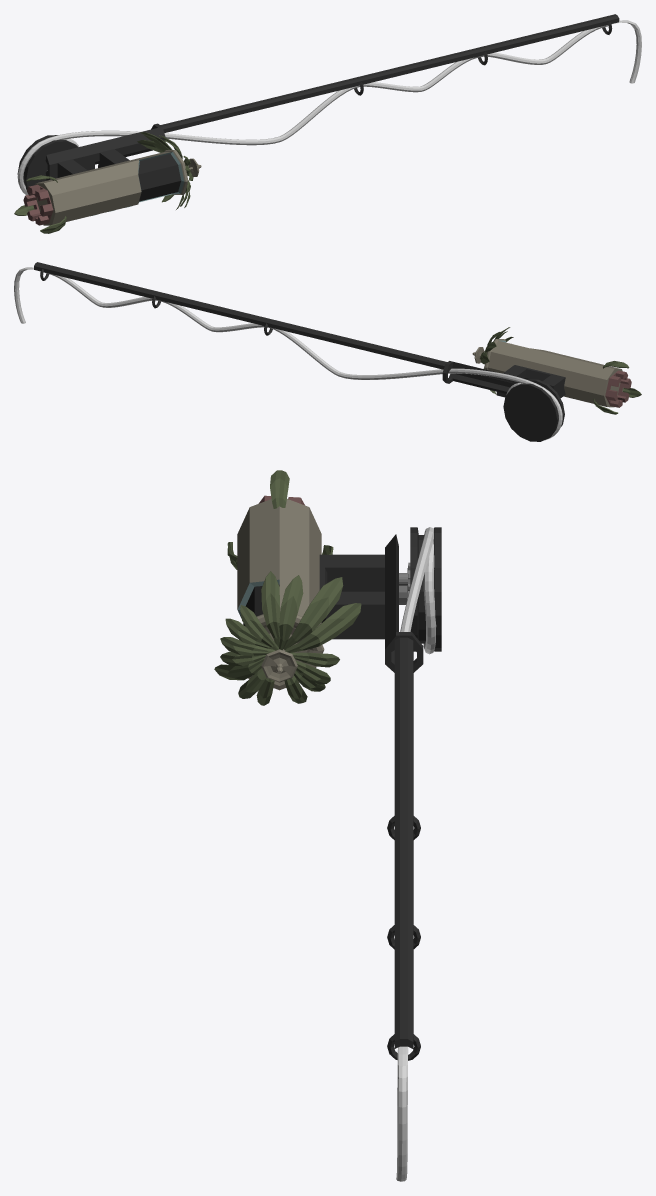
File: FishingRod_v1.fbx
3 renders of one model, top to bottom at view 1: azimuth 30°, elevation 25°; view 2: azimuth 150°, elevation 25°; view 3: azimuth 270°, elevation 25°, orthographic. The views are drawn at different scales.
Visible parts, largest first — view 1: FishingRod, FishingRod_Wire; view 2: FishingRod, FishingRod_Wire; view 3: FishingRod, FishingRod_Wire.
Part boxes in pixels (x1,y1,x2,y2): FishingRod: (14, 14, 619, 233); FishingRod_Wire: (612, 20, 641, 83); FishingRod: (34, 262, 641, 441); FishingRod_Wire: (14, 267, 33, 323); FishingRod: (214, 470, 441, 1060); FishingRod_Wire: (396, 1046, 408, 1181).
Size of the model in its own units: 1046 by 141 by 176.
